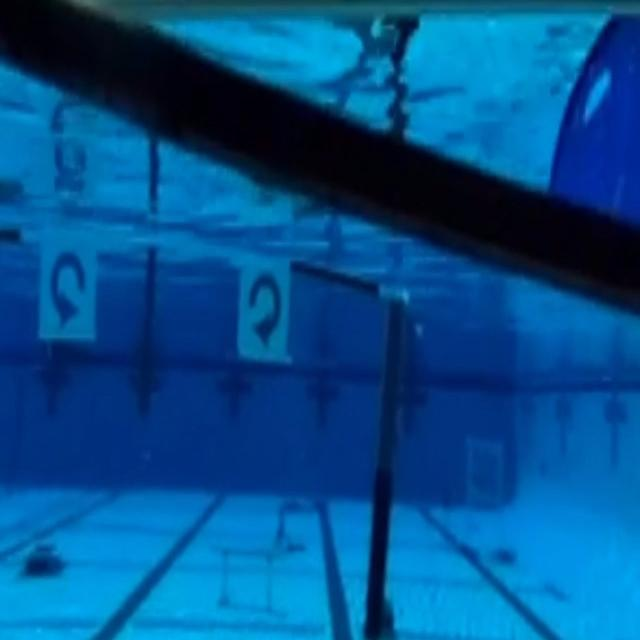Gate: (2, 204, 409, 640)
